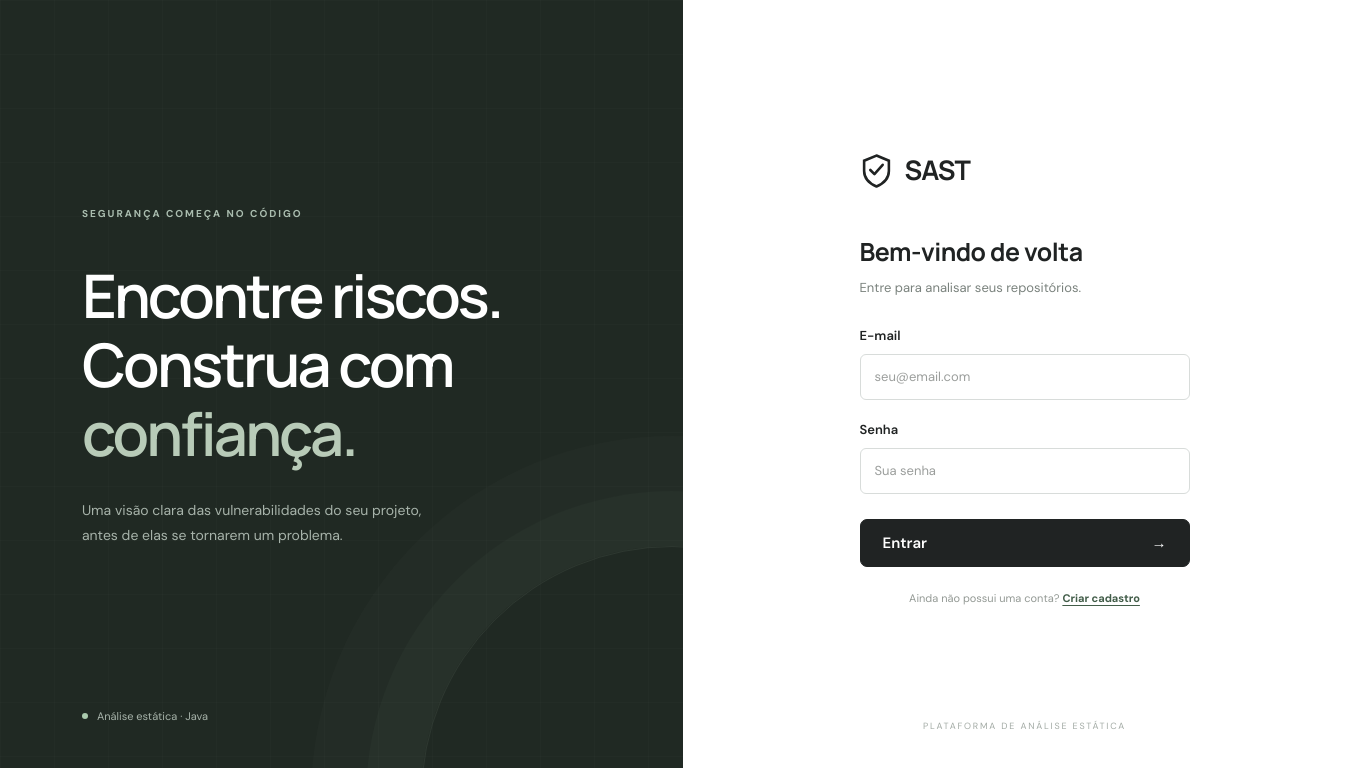
Test case: fluxo autenticado da análise › BDD-E-06: cadastra a conta e solicita login sem autenticar automaticamente
The width and height of the screenshot is (1366, 768).
Click the link "Criar cadastro". click: (1101, 598)
box: [1062, 591, 1140, 605]
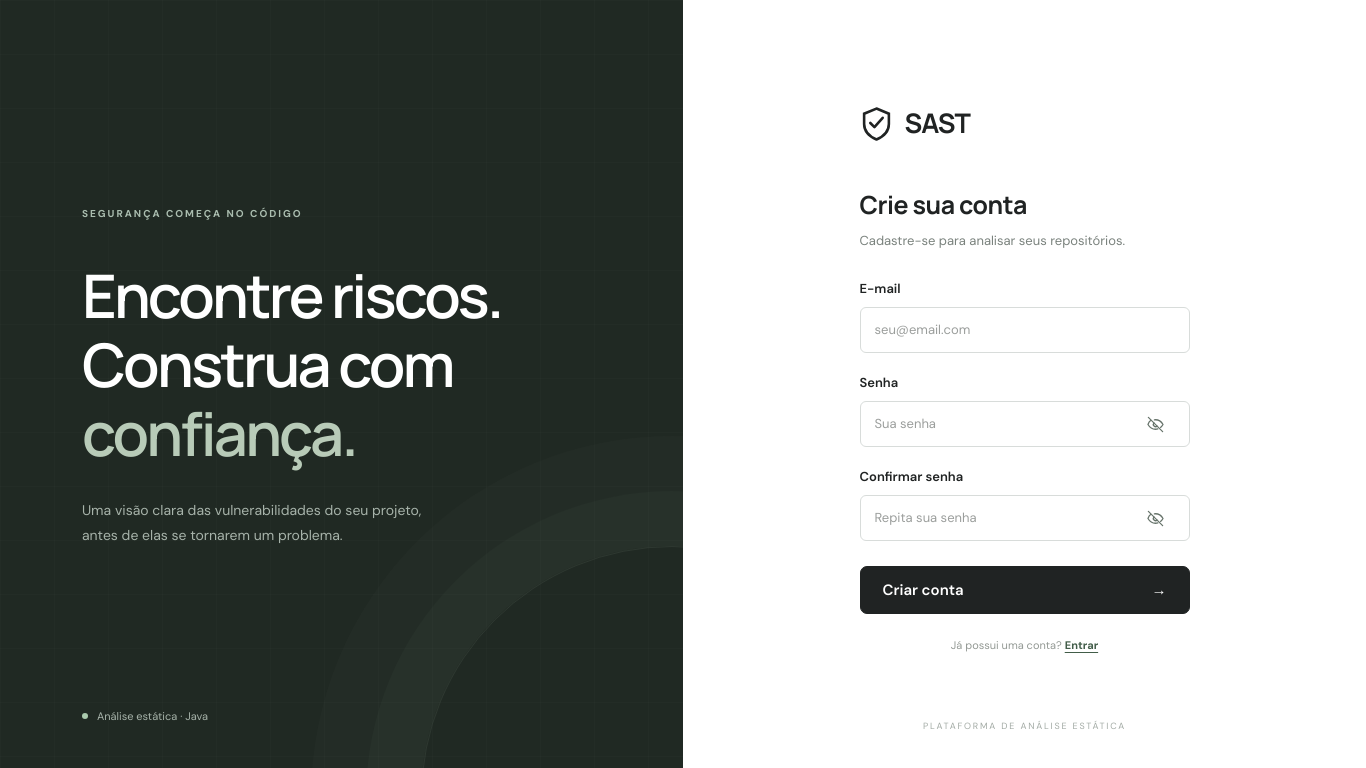
Type "new@example.com" into the field labelled "E-mail". click: (1024, 330)
box: [860, 307, 1190, 353]
Type "strong-password" into the password field labelled "Senha". click: (1024, 424)
box: [860, 401, 1190, 447]
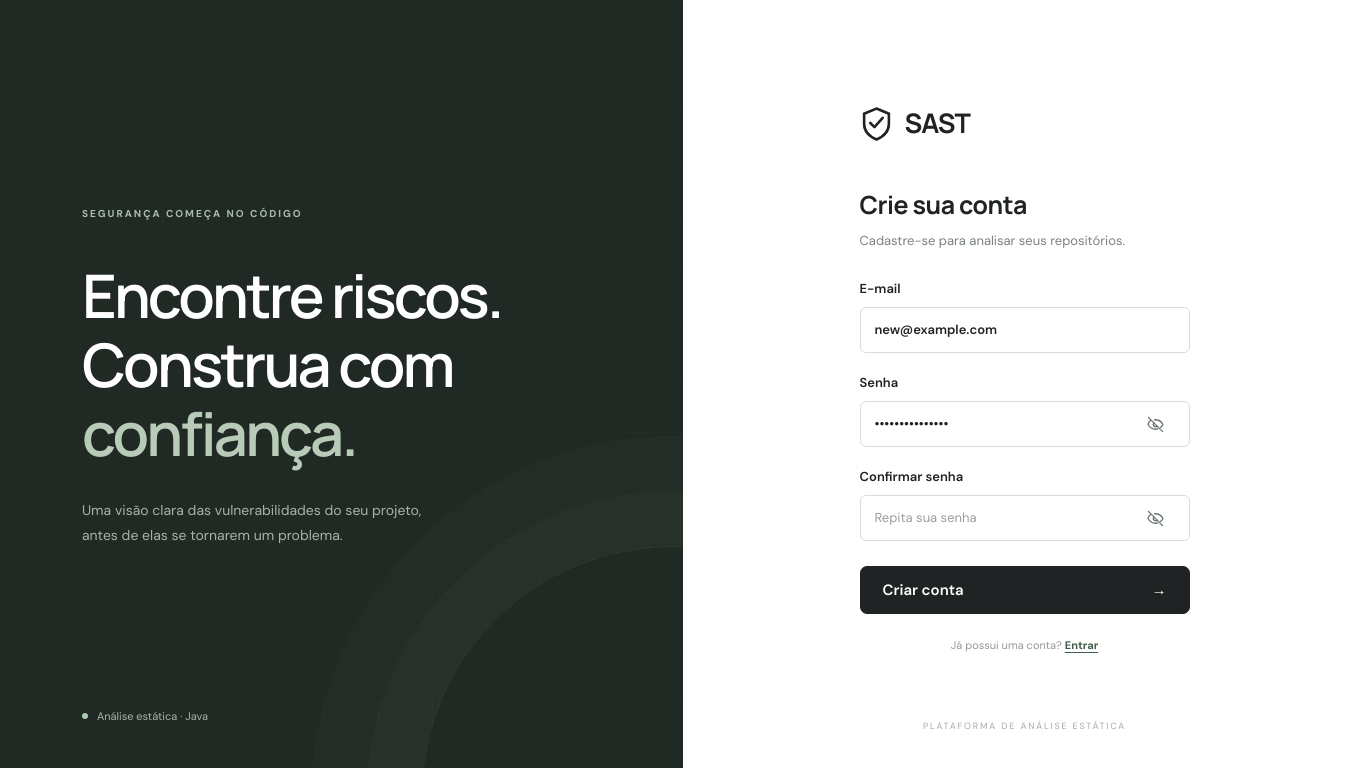
Type "strong-password" into the password field labelled "Confirmar senha". click: (1024, 518)
box: [860, 495, 1190, 541]
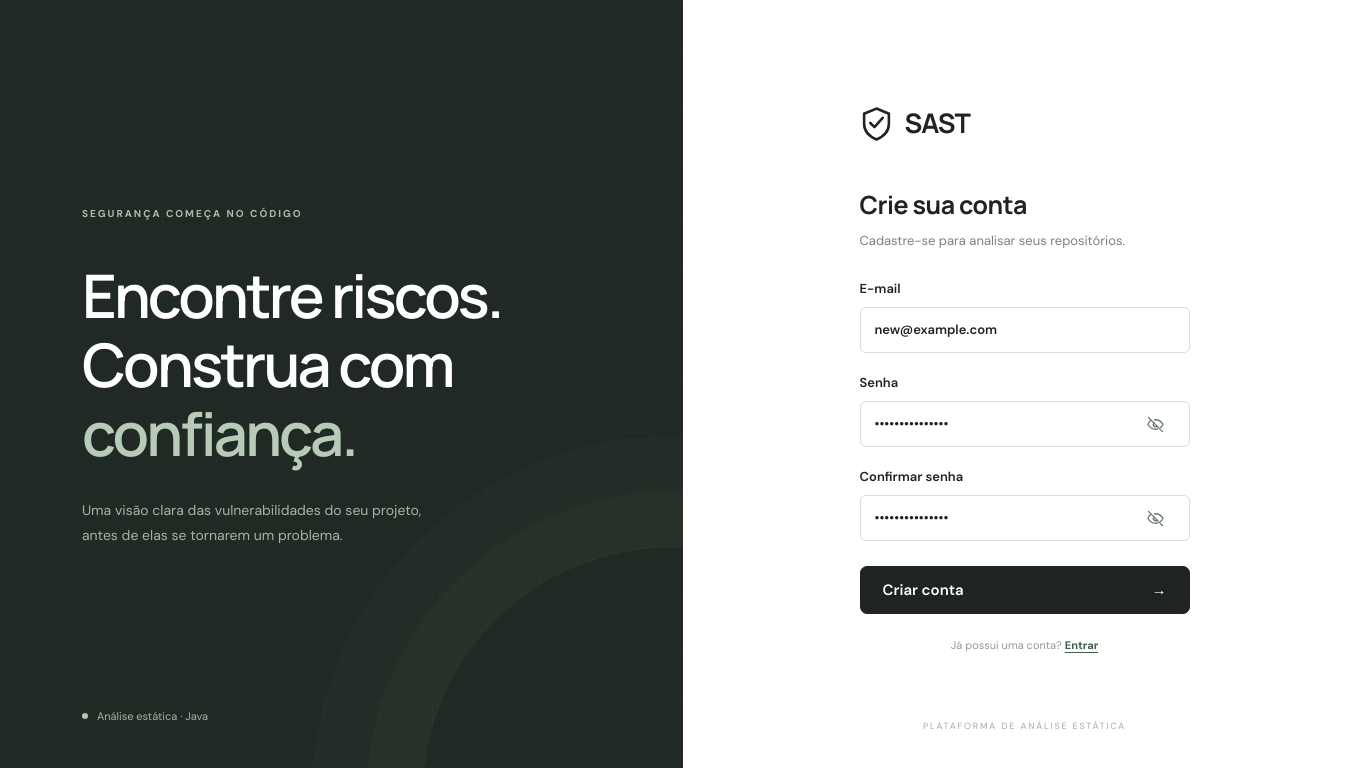
Click the button named "Mostrar senha". click: (1168, 424)
box: [1146, 401, 1190, 447]
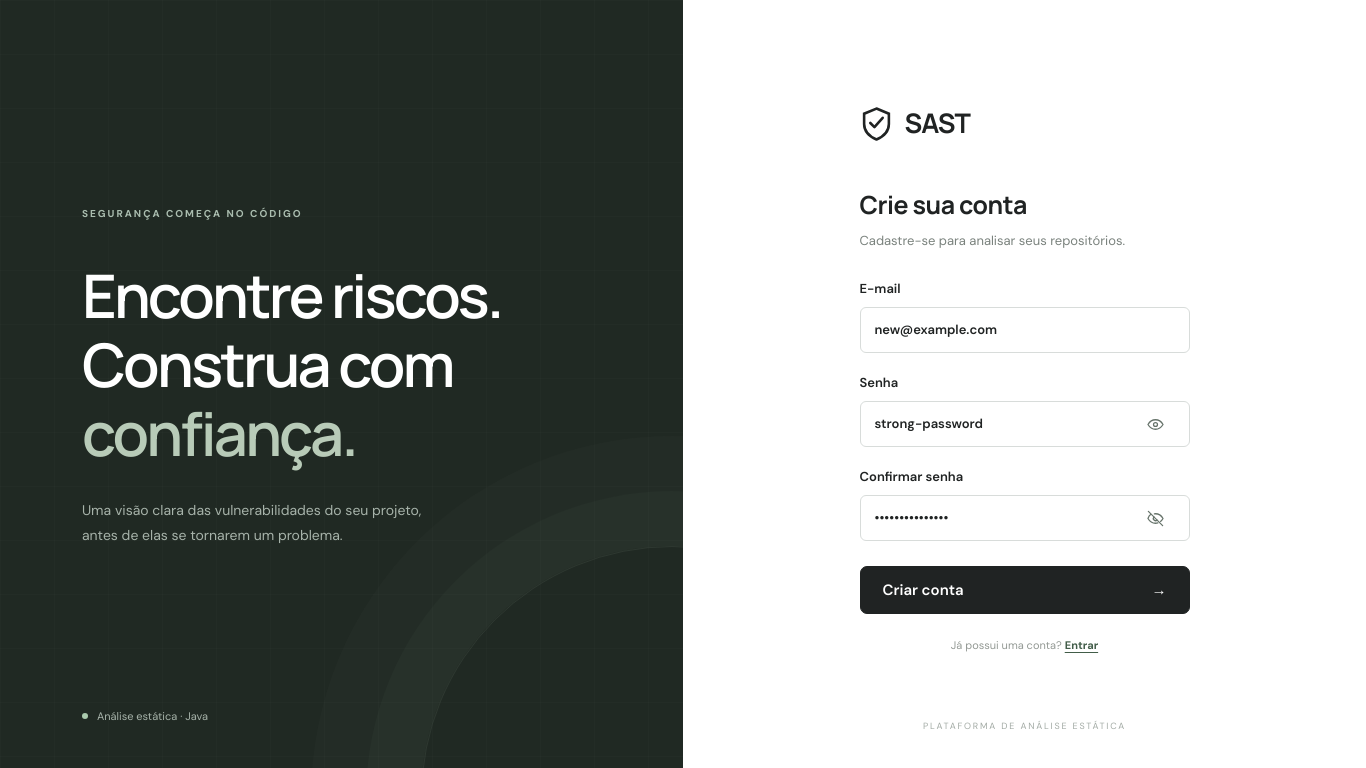
Click the button named "Mostrar confirmação de senha". click: (1168, 518)
box: [1146, 495, 1190, 541]
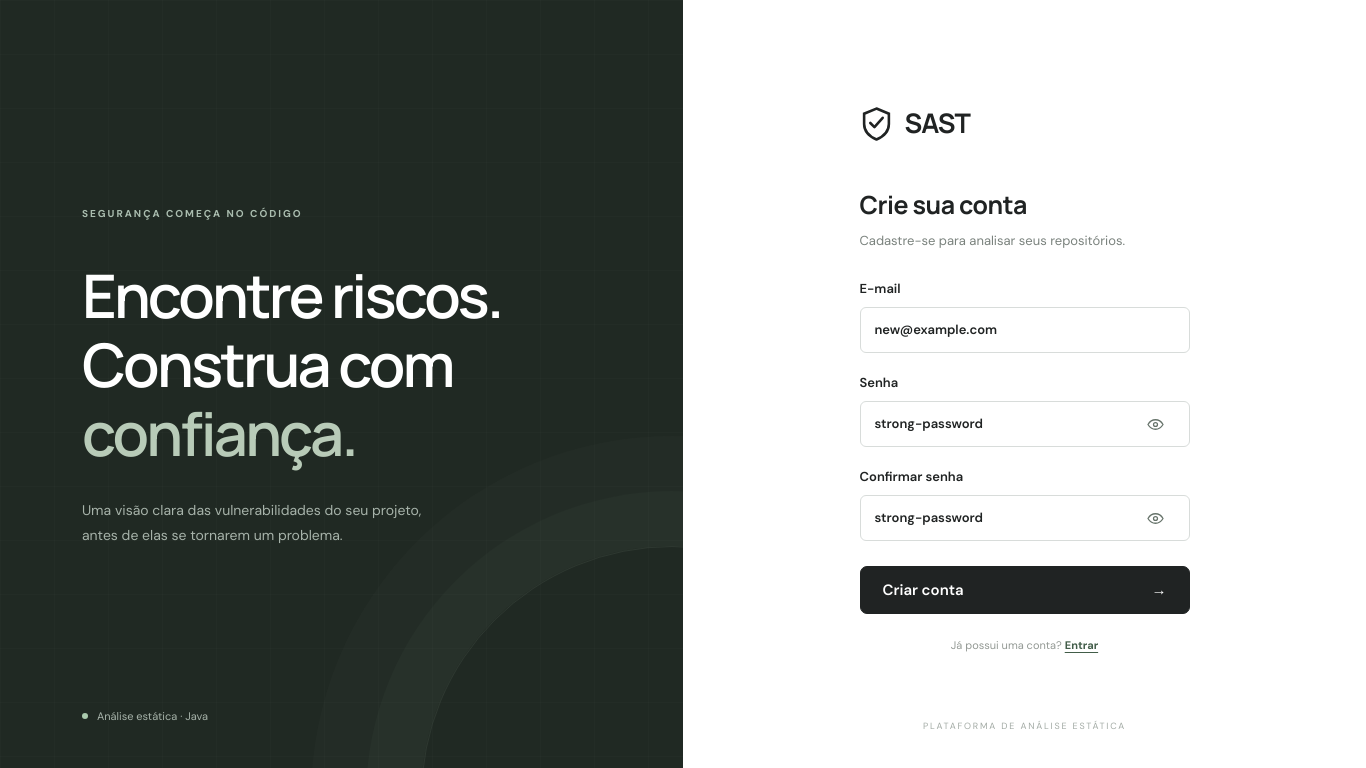
Now the field labelled "Senha" shows its text, box [860, 401, 1190, 447]
Now the field labelled "Confirmar senha" shows its text, box [860, 495, 1190, 541]
Click the button "Criar conta →". click: (923, 590)
box: [860, 566, 1190, 614]
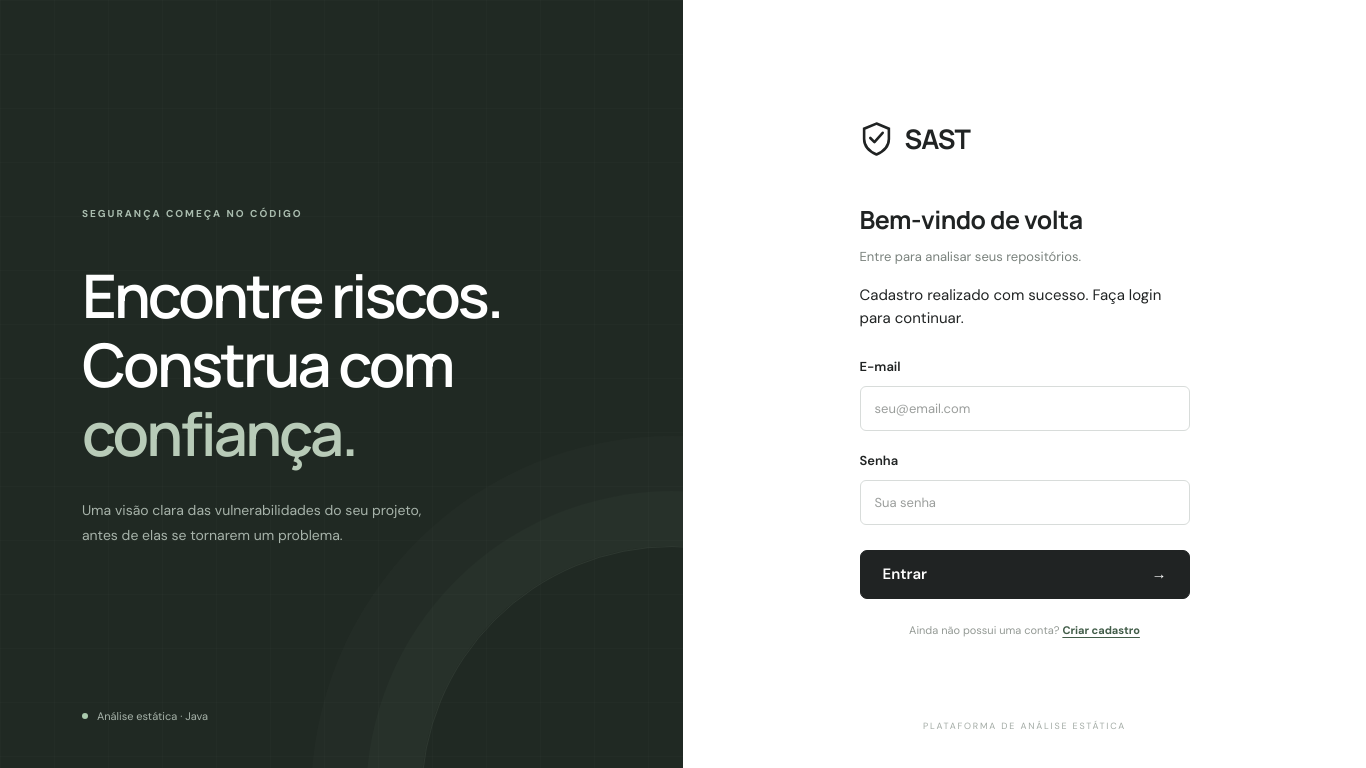
Now the heading "Bem-vindo de volta" is shown, box [860, 202, 1083, 237]
Now the message reads "Cadastro realizado com sucesso. Faça login para continuar.", box [860, 285, 1161, 328]
Now the field labelled "E-mail" is empty, box [860, 386, 1190, 431]
